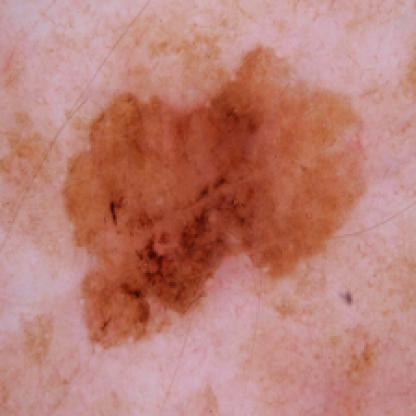Skin_Cancer-Malignant: (63, 46, 368, 350)
